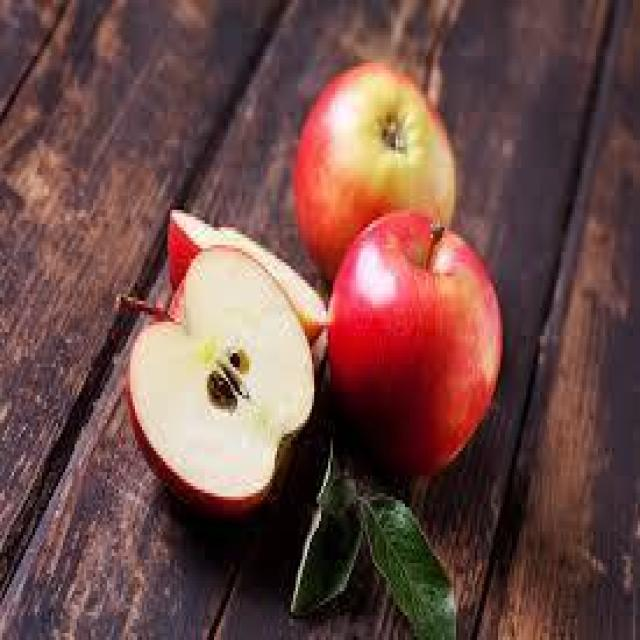maca: (124, 241, 316, 514)
